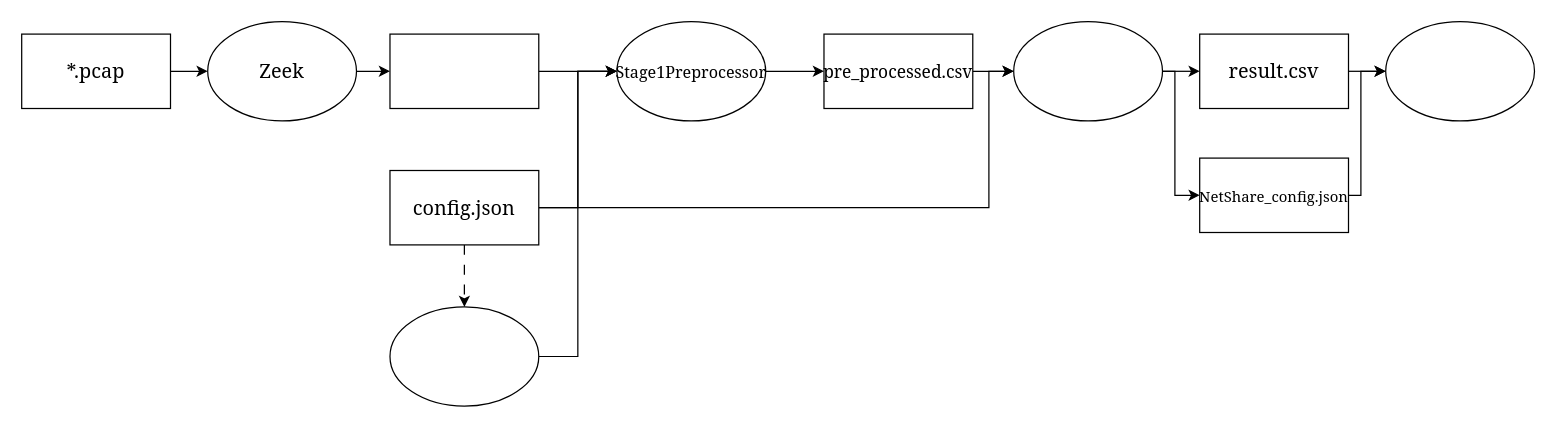
The diagram is 1556 pixels wide and 428 high, and some of its shapes have lost their labels. The centre of each missing label's shape, as x and y in pixels:
"CSVPreprocessor" belongs at (1087,70).
"input file" belongs at (464,70).
"NetShare" belongs at (1459,70).
"parse_func.py" belongs at (464,356).
